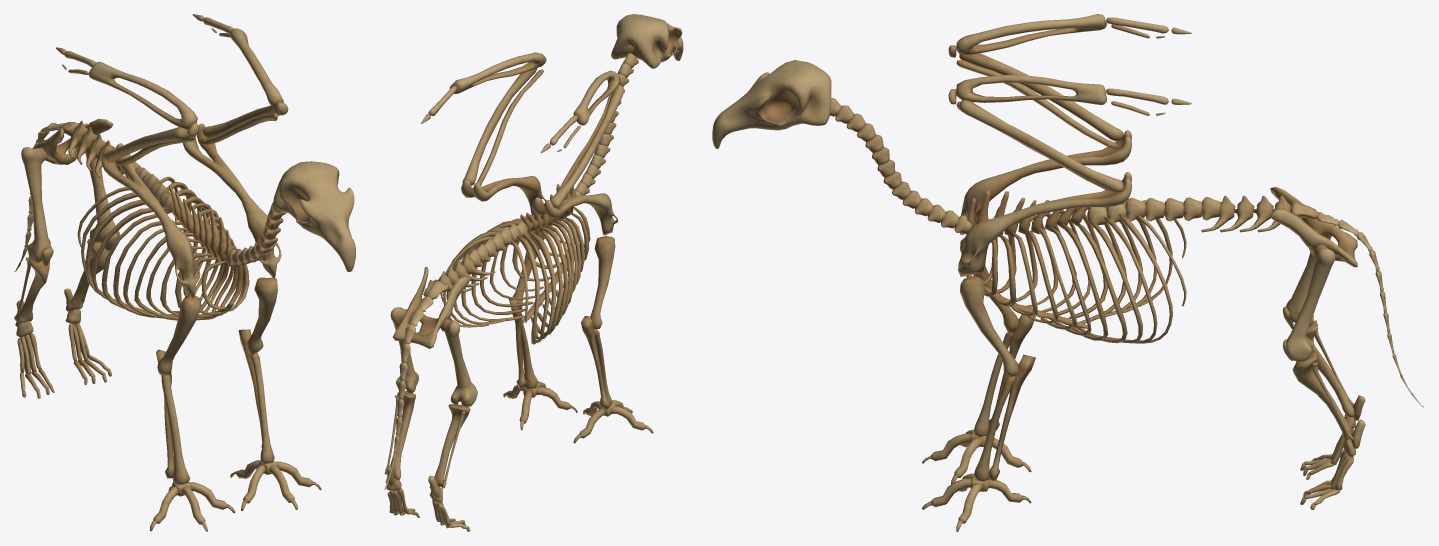
Rendered from GrifosoGLB.glb.
3 views of the same model, side by side, from view 1: azimuth 30°, elevation 25°; view 2: azimuth 150°, elevation 25°; view 3: azimuth 270°, elevation 25° (orthographic). The views are drawn at different scales.
Visible parts, largest first — view 1: griffin_geo.004; view 2: griffin_geo.004; view 3: griffin_geo.004.
Boxes of the visible parts, x1,y1,x2,y2 form: griffin_geo.004: (14,14,355,531); griffin_geo.004: (384,14,683,531); griffin_geo.004: (712,14,1423,531).
Bounding box in the file's own units: 82.83 × 192 × 282.
Materials: 1 (1 with a texture image).
